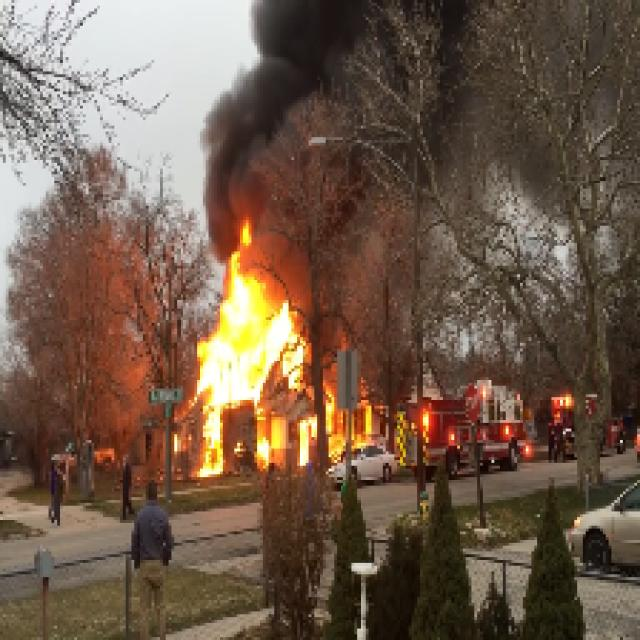fire: (201, 271, 294, 416)
smoke: (242, 2, 317, 108), (201, 128, 249, 237)
